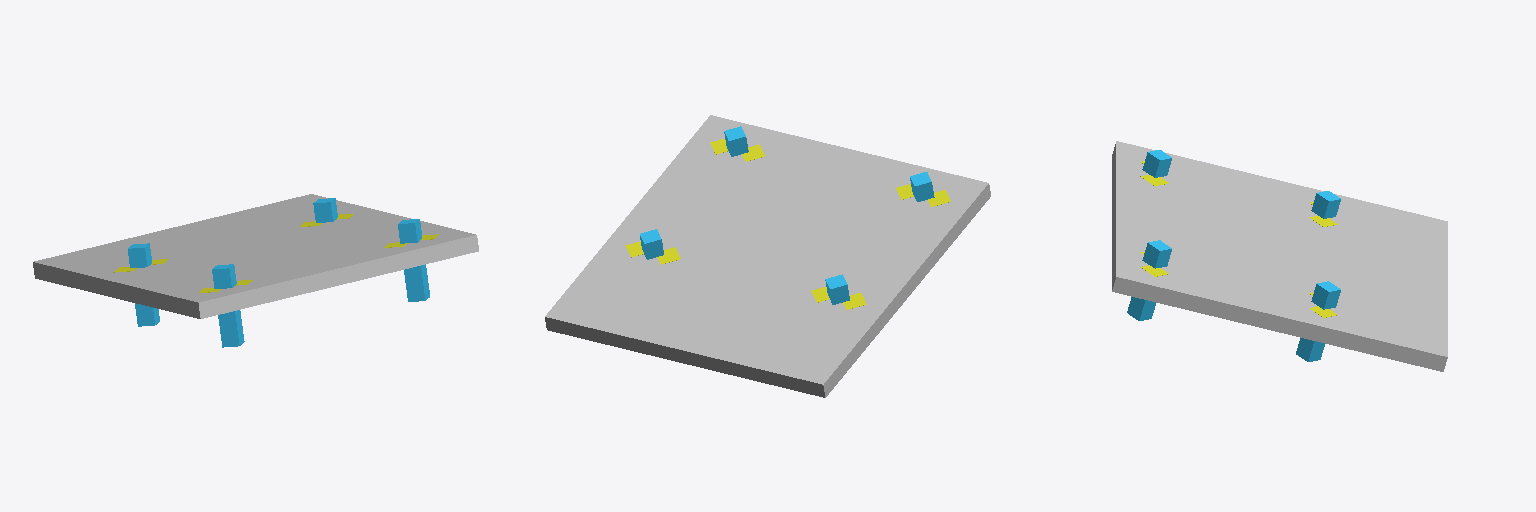
The model's file is shop_1026.obj.
3 renders of one model, left to right at view 1: azimuth 30°, elevation 25°; view 2: azimuth 150°, elevation 25°; view 3: azimuth 270°, elevation 25°, orthographic.
Parts seen in each view (by area): view 1: 1026 109654 PL8x150 PLAAT S235JR, M12x30 1   8.8 109655, L14x16 6     109656; view 2: 1026 109654 PL8x150 PLAAT S235JR, M12x30 1   8.8 109655, L14x16 6     109656; view 3: 1026 109654 PL8x150 PLAAT S235JR, M12x30 1   8.8 109655, L14x16 6     109656.
Boxes of the visible parts, box(x1,y1,x2,y2) form: 1026 109654 PL8x150 PLAAT S235JR: box(33, 194, 478, 318); M12x30 1   8.8 109655: box(128, 198, 429, 347); L14x16 6     109656: box(113, 214, 438, 292); 1026 109654 PL8x150 PLAAT S235JR: box(545, 115, 990, 397); M12x30 1   8.8 109655: box(640, 126, 934, 304); L14x16 6     109656: box(625, 139, 950, 309); 1026 109654 PL8x150 PLAAT S235JR: box(1112, 141, 1447, 371); M12x30 1   8.8 109655: box(1127, 150, 1340, 361); L14x16 6     109656: box(1140, 161, 1337, 317).
Size of the model in its own units: 150 by 60.42 by 157.